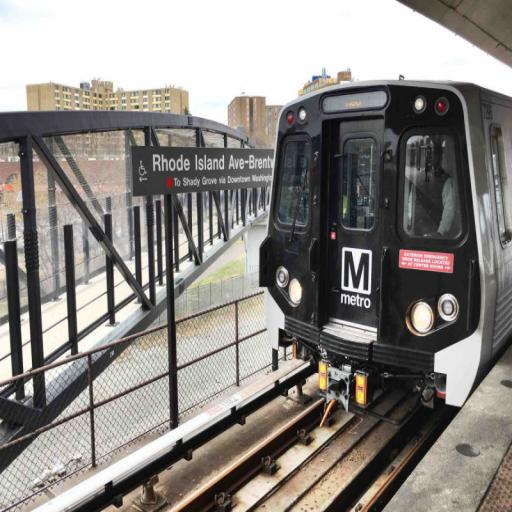platform_edge: (371, 372, 512, 512)
